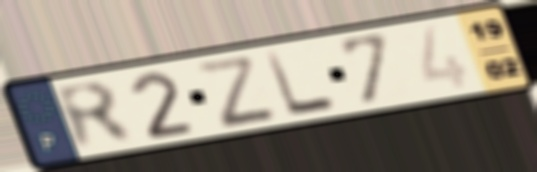2: (126, 69, 199, 142)
4: (418, 22, 474, 92)
7: (336, 29, 393, 107)
L: (261, 48, 342, 120)
R: (49, 79, 142, 154)
Z: (189, 53, 282, 131)
